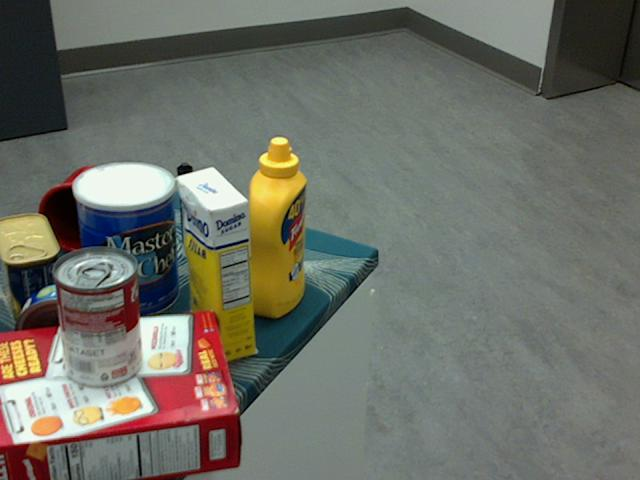cracker_box: (0, 311, 241, 479)
large_marker: (177, 161, 197, 256)
master_chef_can: (71, 161, 178, 321)
mug: (36, 165, 128, 255)
mustard_bottle: (245, 135, 306, 317)
potted_meat_can: (0, 211, 65, 325)
sugar_box: (177, 165, 255, 363)
tomato_soup_can: (52, 247, 140, 388)
tuna_fish_can: (14, 283, 109, 373)
